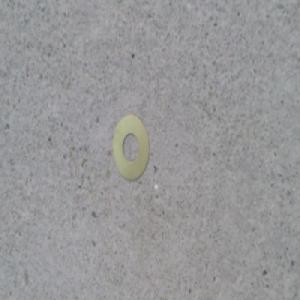Washer: (111, 113, 151, 182)
